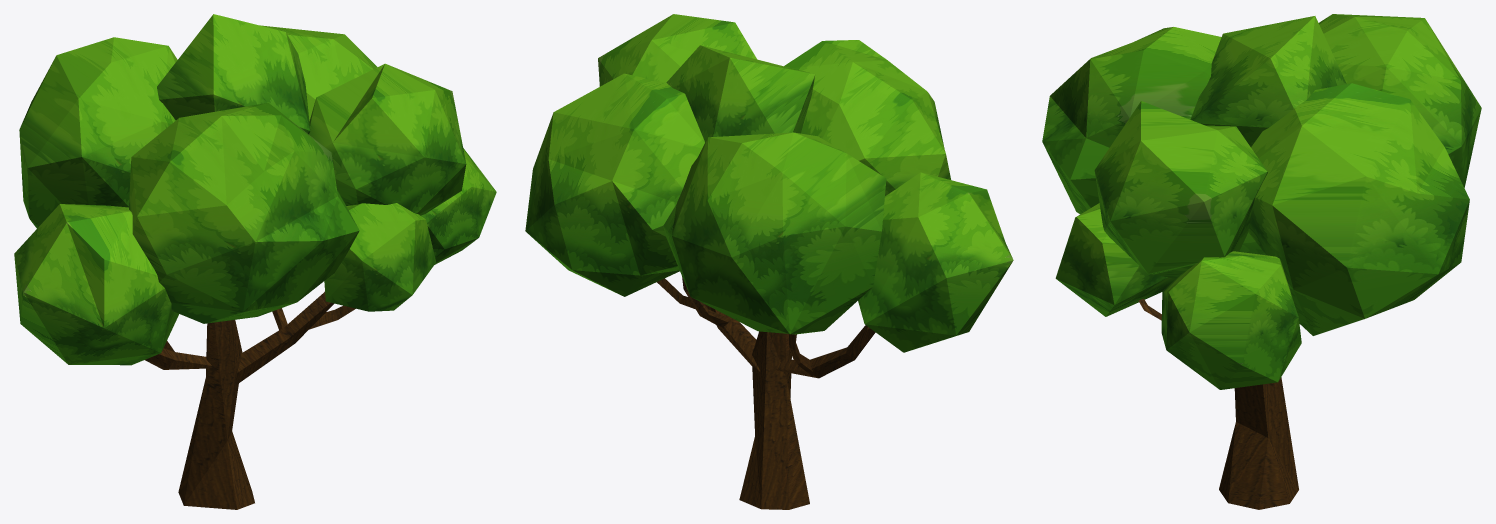
File: Tree_H.fbx
3 views of the same model, side by side, from view 1: azimuth 30°, elevation 25°; view 2: azimuth 150°, elevation 25°; view 3: azimuth 270°, elevation 25° (orthographic). The views are drawn at different scales.
Parts seen in each view (by area): view 1: Tree.3; view 2: Tree.3; view 3: Tree.3.
Boxes of the visible parts, <box> form: Tree.3: <box>14,14,496,509</box>; Tree.3: <box>525,14,1013,509</box>; Tree.3: <box>1042,14,1481,509</box>.
Bounding box in the file's own units: 820 × 768 × 627.
Materials: 1 (1 with a texture image).
